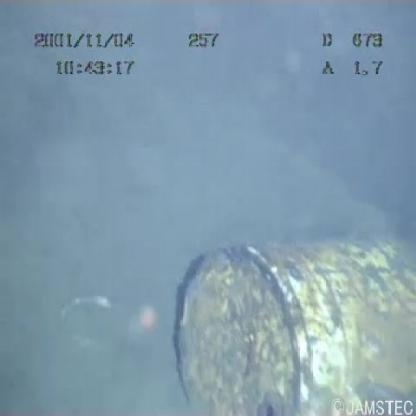Rác: (141, 204, 416, 411)
